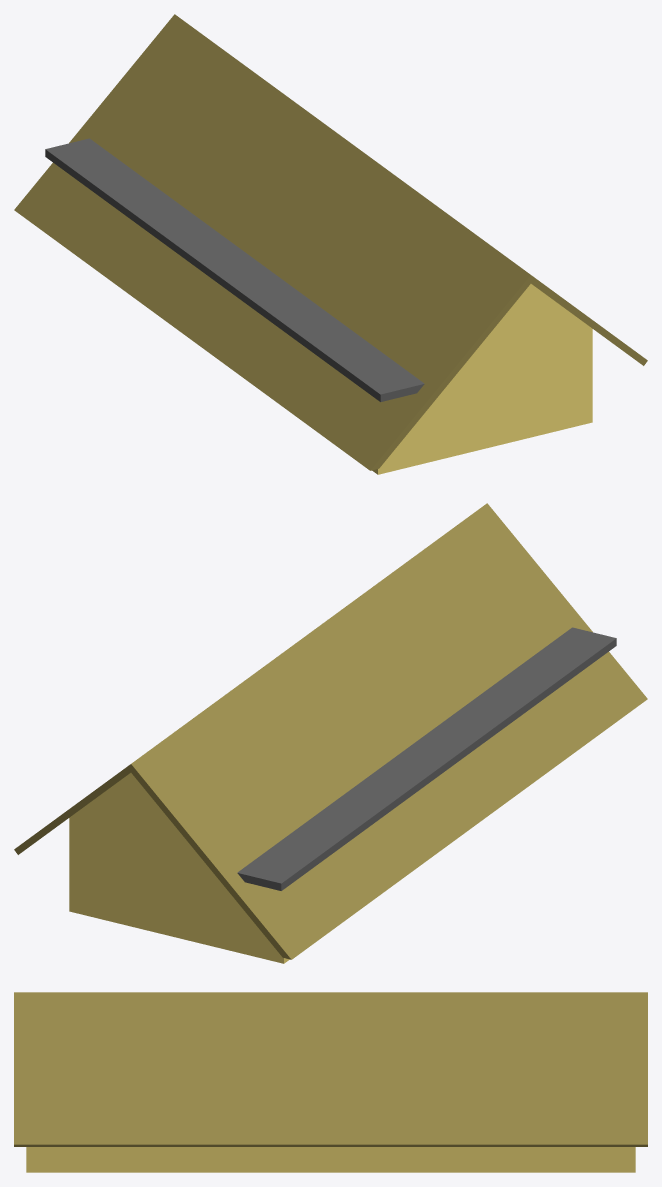
File: result.glb
The picture shows the model from 3 angles, top to bottom: view 1: azimuth 30°, elevation 25°; view 2: azimuth 150°, elevation 25°; view 3: azimuth 270°, elevation 25°; orthographic projection. The views are drawn at different scales.
Visible parts, largest first — view 1: 19036aec-8c18-46b6-a2a9-9b387d472aff__undefined (×2), 77f5edaa-82ed-4cc5-8749-76a3743a061b__undefined, 97b82cea-5bff-4b71-8be2-5bd68b9895d3__Box; view 2: 19036aec-8c18-46b6-a2a9-9b387d472aff__undefined (×2), 77f5edaa-82ed-4cc5-8749-76a3743a061b__undefined, 97b82cea-5bff-4b71-8be2-5bd68b9895d3__Box; view 3: 19036aec-8c18-46b6-a2a9-9b387d472aff__undefined, 77f5edaa-82ed-4cc5-8749-76a3743a061b__undefined.
Part boxes in pixels (x1,y1,x2,y2): 19036aec-8c18-46b6-a2a9-9b387d472aff__undefined (×2): (14, 14, 647, 470); 77f5edaa-82ed-4cc5-8749-76a3743a061b__undefined: (372, 284, 592, 474); 97b82cea-5bff-4b71-8be2-5bd68b9895d3__Box: (45, 138, 424, 401); 19036aec-8c18-46b6-a2a9-9b387d472aff__undefined (×2): (14, 503, 647, 959); 77f5edaa-82ed-4cc5-8749-76a3743a061b__undefined: (69, 773, 289, 963); 97b82cea-5bff-4b71-8be2-5bd68b9895d3__Box: (237, 627, 616, 890); 19036aec-8c18-46b6-a2a9-9b387d472aff__undefined: (14, 992, 647, 1146); 77f5edaa-82ed-4cc5-8749-76a3743a061b__undefined: (26, 1147, 635, 1172).
Size of the model in its own units: 1144 by 667 by 2541.
